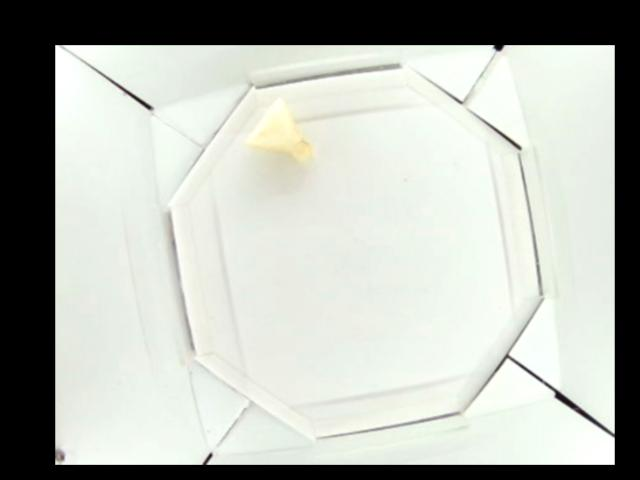Mooli: (246, 99, 313, 161)
